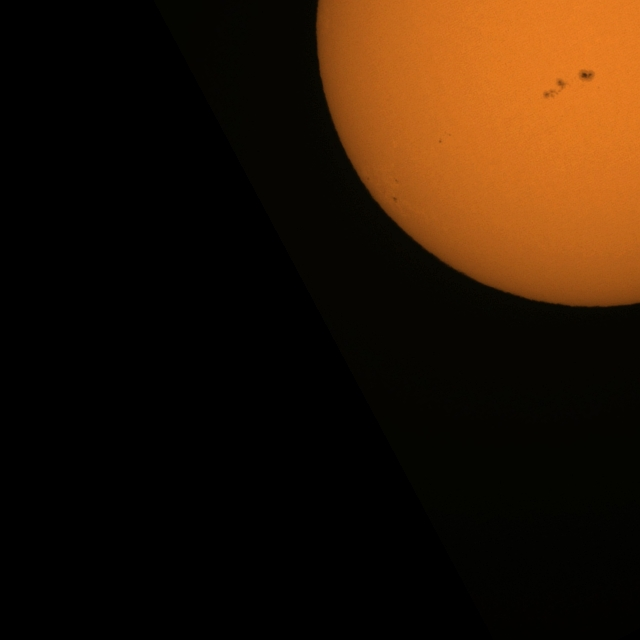sunspot: (538, 68, 600, 100), (542, 78, 568, 100), (577, 68, 596, 83), (440, 131, 452, 141), (391, 195, 398, 203), (438, 139, 443, 145), (365, 176, 370, 182), (394, 178, 399, 184)
